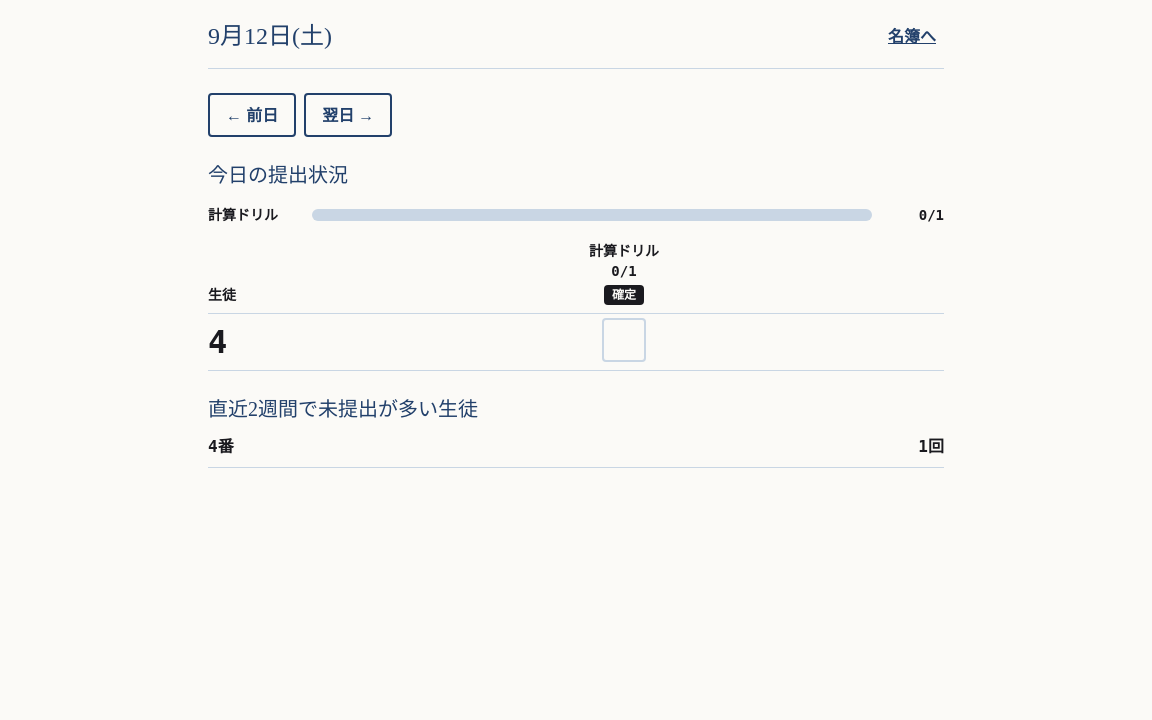
Scenario: 欠席マーク › 欠席にすると直近2週間の集計から除外される
Expected: the text "4番" is shown, [208,435,234,459]
Click the button named "4番 計算ドリル 未提出": (624, 340) [602,318,646,362]
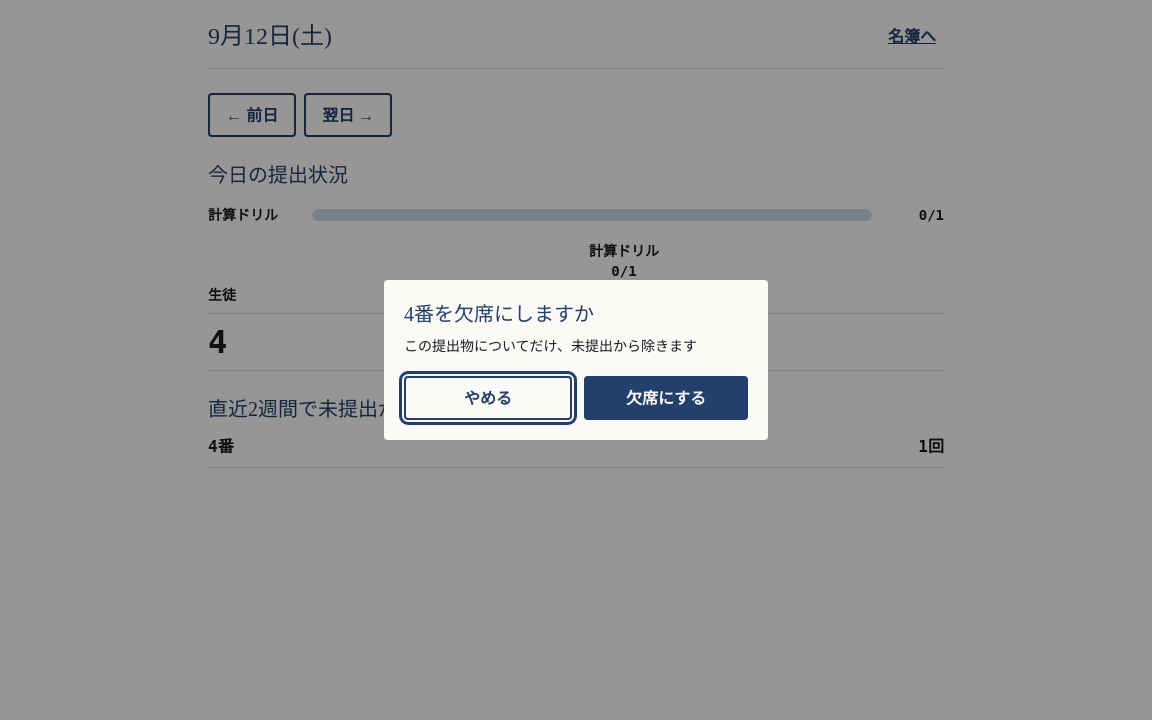
Click the button "欠席にする": (666, 398) [584,376,748,420]
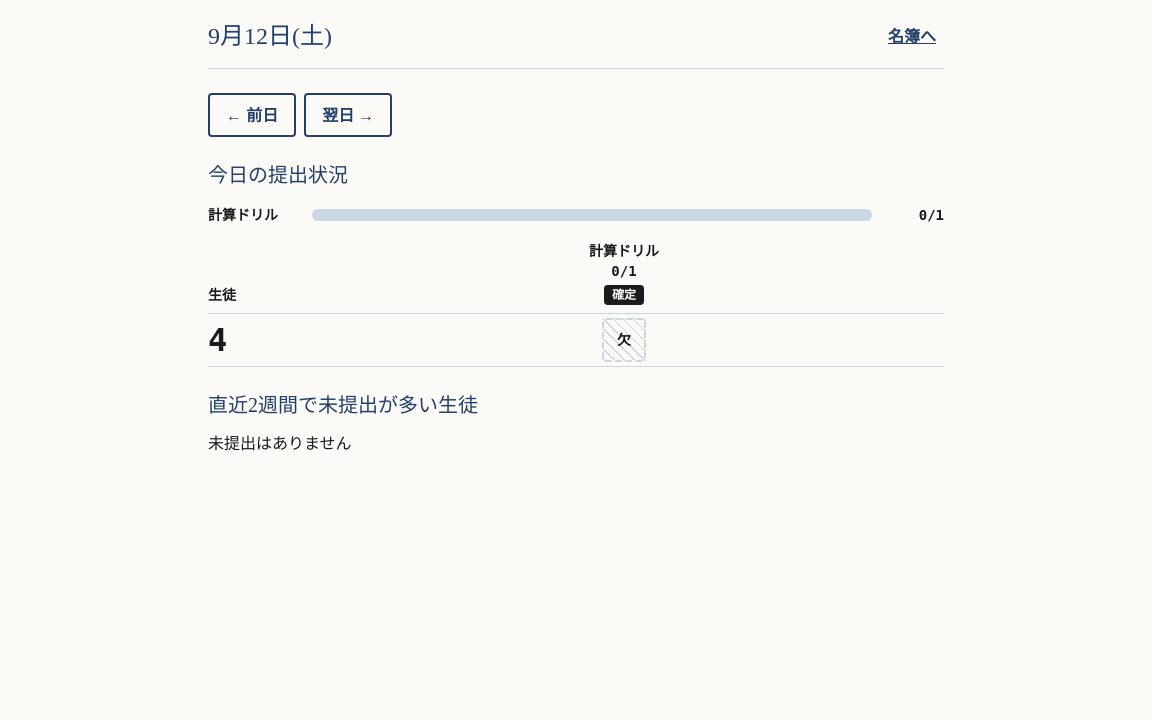
Result: the text "未提出はありません" is shown at [208,432,352,454]
